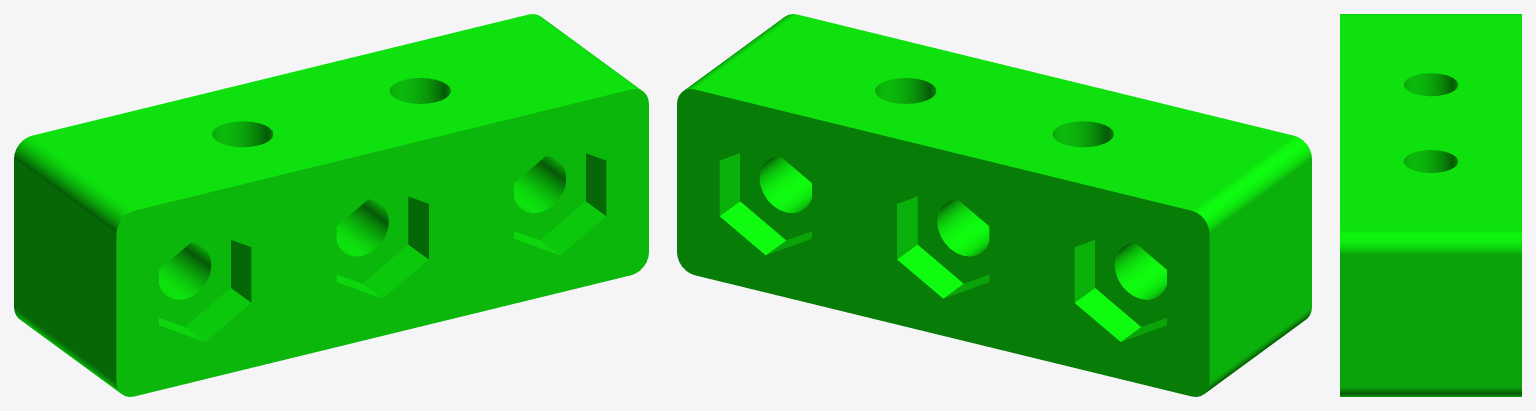
File: I3_green.glb
3 renders of one model, left to right at view 1: azimuth 30°, elevation 25°; view 2: azimuth 150°, elevation 25°; view 3: azimuth 270°, elevation 25°, orthographic. The views are drawn at different scales.
Parts seen in each view (by area): view 1: I3; view 2: I3; view 3: I3.
Boxes of the visible parts, left/top/right/bottom form: I3: left=14, top=14, right=648, bottom=396; I3: left=677, top=14, right=1311, bottom=396; I3: left=1340, top=14, right=1521, bottom=396.
Size of the model in its own units: 0.03 by 0.01 by 0.01.
